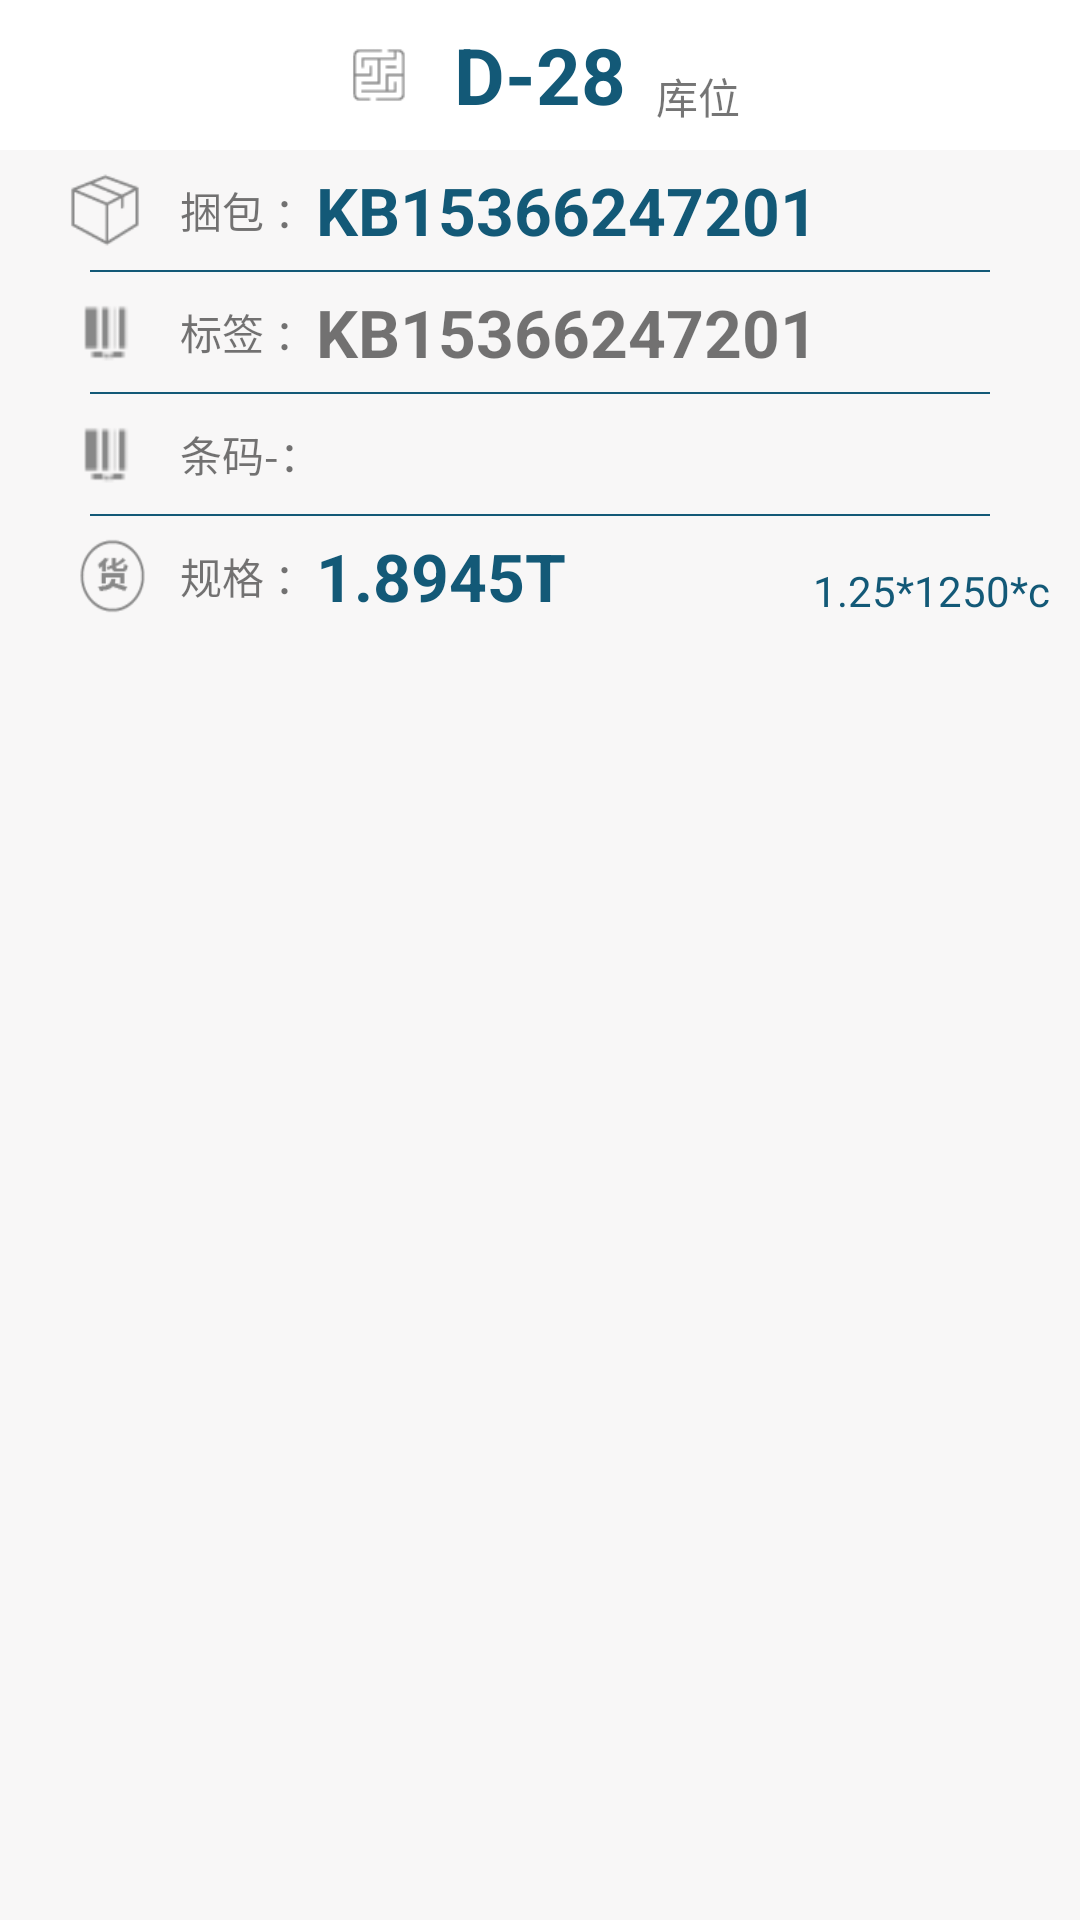

Point at icon controls on the screen. Image size 1080px x 1920px, points as (x,y).
info balen: (105,210)
info code: (106,332), (106,454)
info storeplace: (379,75)
